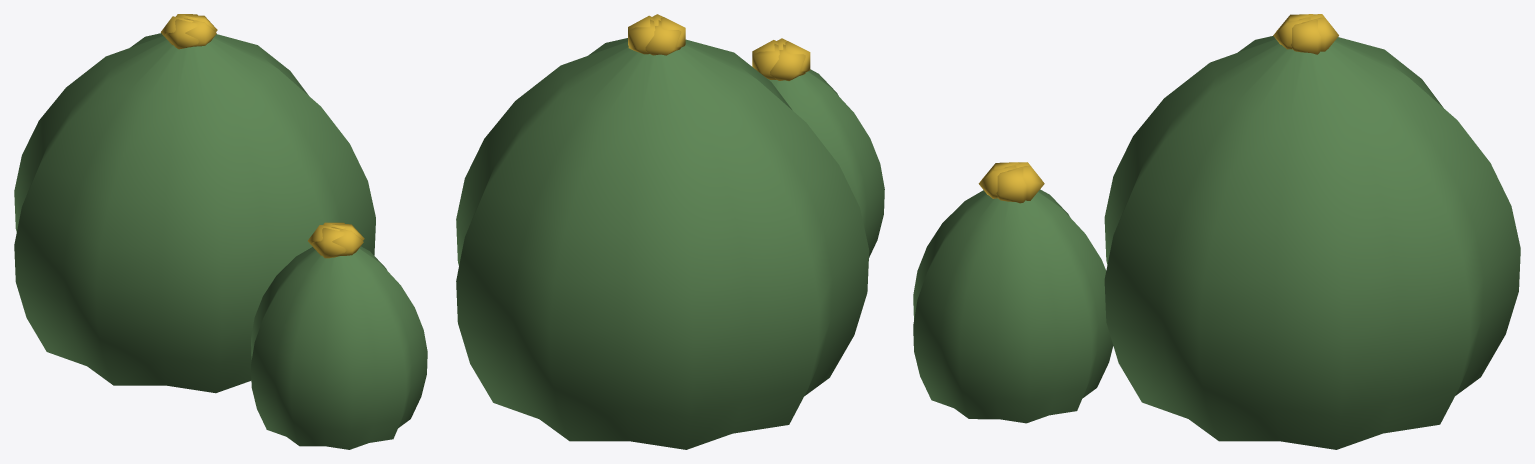
The model's file is barrel_cactus_1.glb.
3 views of the same model, side by side, from view 1: azimuth 30°, elevation 25°; view 2: azimuth 150°, elevation 25°; view 3: azimuth 270°, elevation 25° (orthographic). The views are drawn at different scales.
Visible parts, largest first — view 1: barrel_cactus_1; view 2: barrel_cactus_1; view 3: barrel_cactus_1.
Boxes of the visible parts, box(x1,y1,x2,y2) form: barrel_cactus_1: box(14, 14, 427, 449); barrel_cactus_1: box(456, 14, 884, 449); barrel_cactus_1: box(913, 14, 1520, 449).
Bounding box in the file's own units: 0.6555 × 0.6119 × 0.9424.
